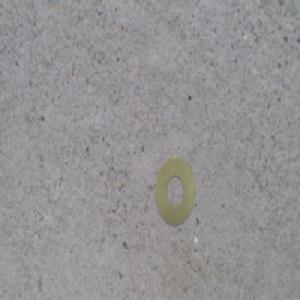Washer: (152, 152, 194, 224)
